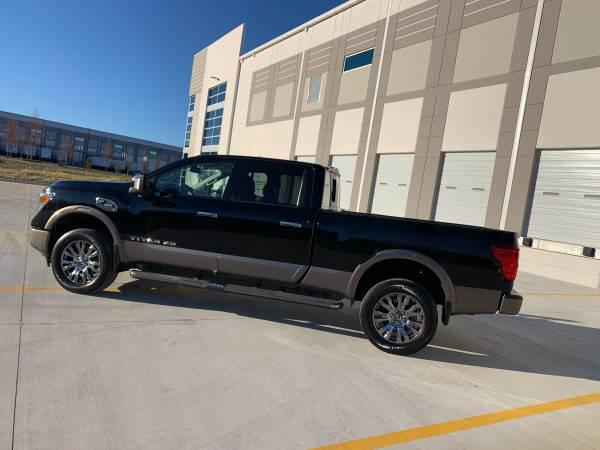Front_Bumper: (27, 228, 48, 259)
Front_Fender: (32, 182, 132, 266)
Front_Left_Door: (122, 192, 223, 273)
Front_Left_Window: (133, 153, 244, 200)
Left_Taillight: (491, 245, 520, 280), (39, 186, 60, 213)
Rear_Bumper: (500, 285, 523, 315)
Rear_Fender: (298, 208, 516, 312)
Rear_Left_Door: (217, 198, 317, 286)
Rear_Left_Window: (228, 153, 325, 209)
Rear_Windshield: (317, 167, 343, 209)
Wheel: (358, 276, 440, 356), (49, 226, 116, 295)
